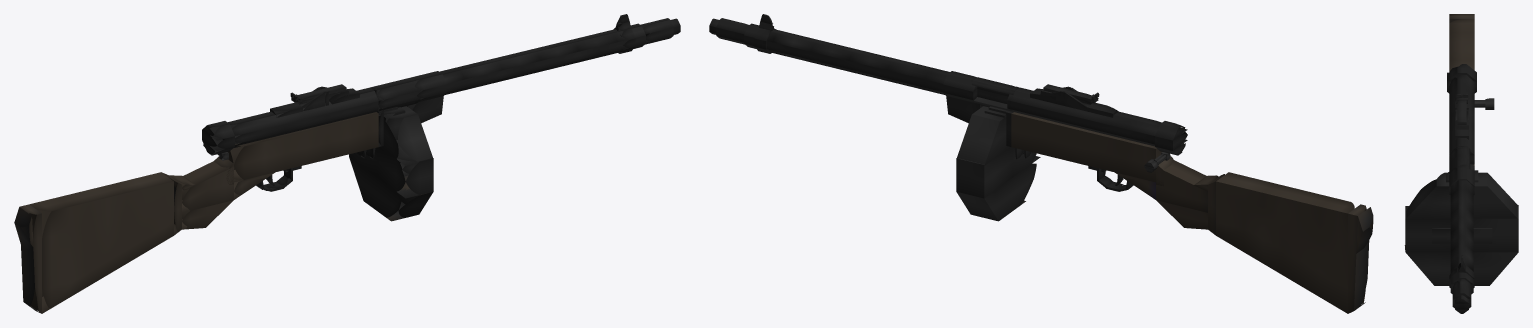
The picture shows the model from 3 angles, left to right: view 1: azimuth 30°, elevation 25°; view 2: azimuth 150°, elevation 25°; view 3: azimuth 270°, elevation 25°; orthographic projection.
Visible parts, largest first — view 1: gunModel2, gunModel0, gunModel25, ammoModel2, ammoModel1, gunModel1, ammoModel0, gunModel12, gunModel26, gunModel7, gunModel11, gunModel4 (+5 smaller); view 2: gunModel2, gunModel0, gunModel25, ammoModel2, ammoModel0, ammoModel1, gunModel1, gunModel12, gunModel26, gunModel7, gunModel11, gunModel4 (+4 smaller); view 3: ammoModel0, ammoModel2, gunModel25, ammoModel1, gunModel12, gunModel2, ammoModel6, gunModel24, gunModel14, gunModel40, gunModel34, gunModel68 (+8 smaller).
Boxes of the visible parts, x1,y1,x2,y2 form: gunModel2: (29, 172, 173, 313); gunModel0: (228, 112, 378, 182); gunModel25: (439, 23, 645, 83); ammoModel2: (349, 140, 433, 198); ammoModel1: (349, 157, 433, 221); gunModel1: (174, 161, 233, 212); ammoModel0: (378, 106, 432, 165); gunModel12: (228, 87, 378, 135); gunModel26: (416, 35, 645, 91); gunModel7: (19, 204, 41, 313); gunModel11: (223, 101, 378, 144); gunModel4: (174, 200, 233, 229); gunModel2: (1216, 172, 1354, 313); gunModel0: (1011, 112, 1161, 182); gunModel25: (744, 23, 949, 83); ammoModel2: (956, 147, 1040, 198); ammoModel0: (957, 106, 1009, 165); ammoModel1: (956, 163, 1036, 221); gunModel1: (1156, 159, 1207, 212); gunModel12: (1011, 87, 1161, 135); gunModel26: (744, 35, 977, 99); gunModel7: (1348, 204, 1369, 313); gunModel11: (1011, 101, 1154, 144); gunModel4: (1156, 200, 1207, 229); ammoModel0: (1405, 172, 1517, 218); ammoModel2: (1405, 205, 1518, 252); gunModel25: (1450, 180, 1473, 284); ammoModel1: (1404, 245, 1518, 285); gunModel12: (1449, 75, 1474, 153); gunModel2: (1449, 19, 1474, 71); ammoModel6: (1432, 228, 1492, 243); gunModel24: (1449, 164, 1474, 186); gunModel14: (1449, 146, 1466, 173); gunModel40: (1447, 64, 1476, 81); gunModel34: (1452, 279, 1471, 298); gunModel68: (1457, 97, 1466, 124).
Bounding box in the file's own units: 32.85 × 7.23 × 4.95.
